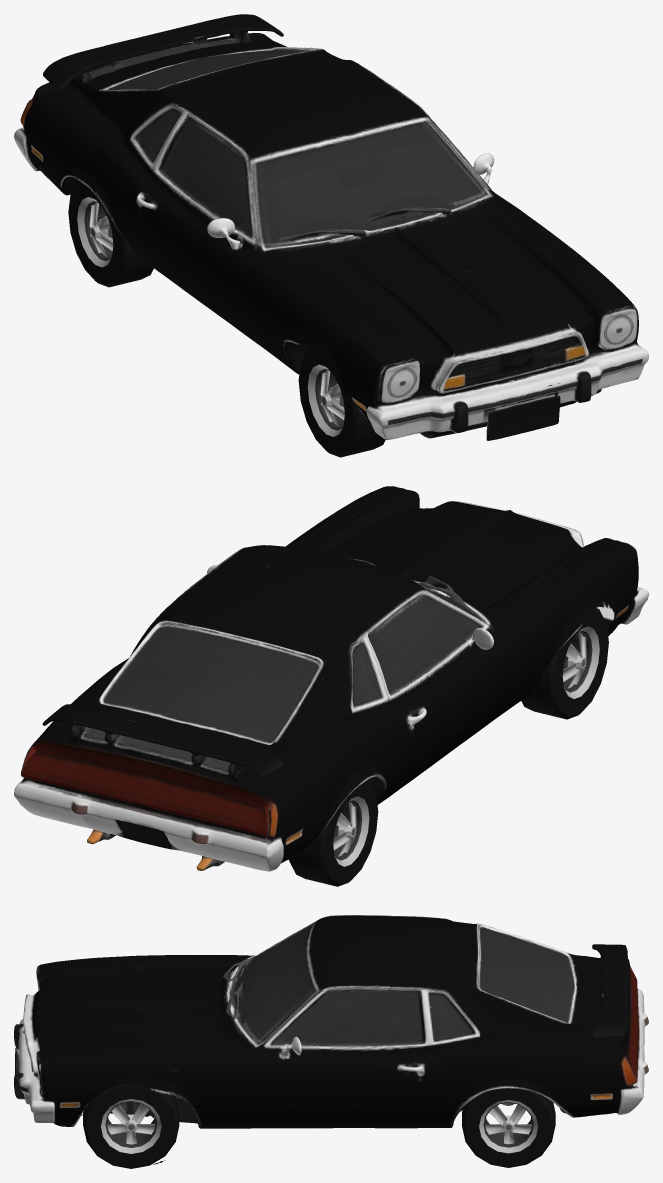
The model's file is carro14.glb.
3 views of the same model, one above another, from view 1: azimuth 30°, elevation 25°; view 2: azimuth 150°, elevation 25°; view 3: azimuth 270°, elevation 25° (orthographic). The views are drawn at different scales.
Visible parts, largest first — view 1: Body, Wheel_FR, Wheel_RR; view 2: Body, Wheel_FR, Wheel_RR; view 3: Body, Wheel_FL, Wheel_RL.
Part boxes in pixels (bbox=[...]): Body: bbox=[14, 14, 648, 440]; Wheel_FR: bbox=[298, 347, 385, 457]; Wheel_RR: bbox=[68, 180, 153, 287]; Body: bbox=[14, 486, 648, 871]; Wheel_FR: bbox=[521, 608, 608, 719]; Wheel_RR: bbox=[288, 779, 378, 886]; Body: bbox=[14, 915, 648, 1164]; Wheel_FL: bbox=[83, 1084, 179, 1168]; Wheel_RL: bbox=[462, 1088, 555, 1167].
Size of the model in its own units: 0.8107 by 0.5734 by 1.9.
2 materials, 2 textured.
